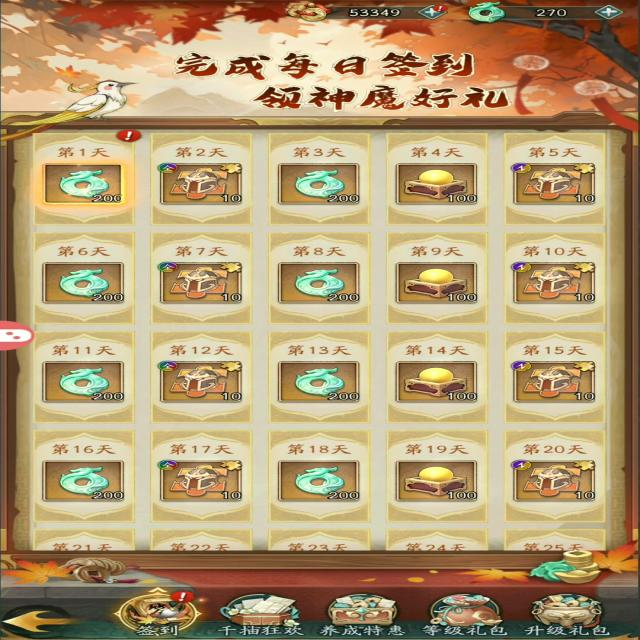hint-reddot: (105, 127, 146, 149), (172, 586, 201, 604), (434, 5, 450, 14)
operation-DevelopSpecialOffers: (316, 591, 405, 639)
operation-GradeGift: (414, 590, 507, 640)
operation-UpgradeGift: (519, 589, 616, 640)
operation-back: (8, 597, 93, 635)
operation-confirm: (38, 148, 122, 210)
operation-qianchoukuanghuan: (217, 586, 312, 637)
operation-signin: (108, 592, 203, 640)
